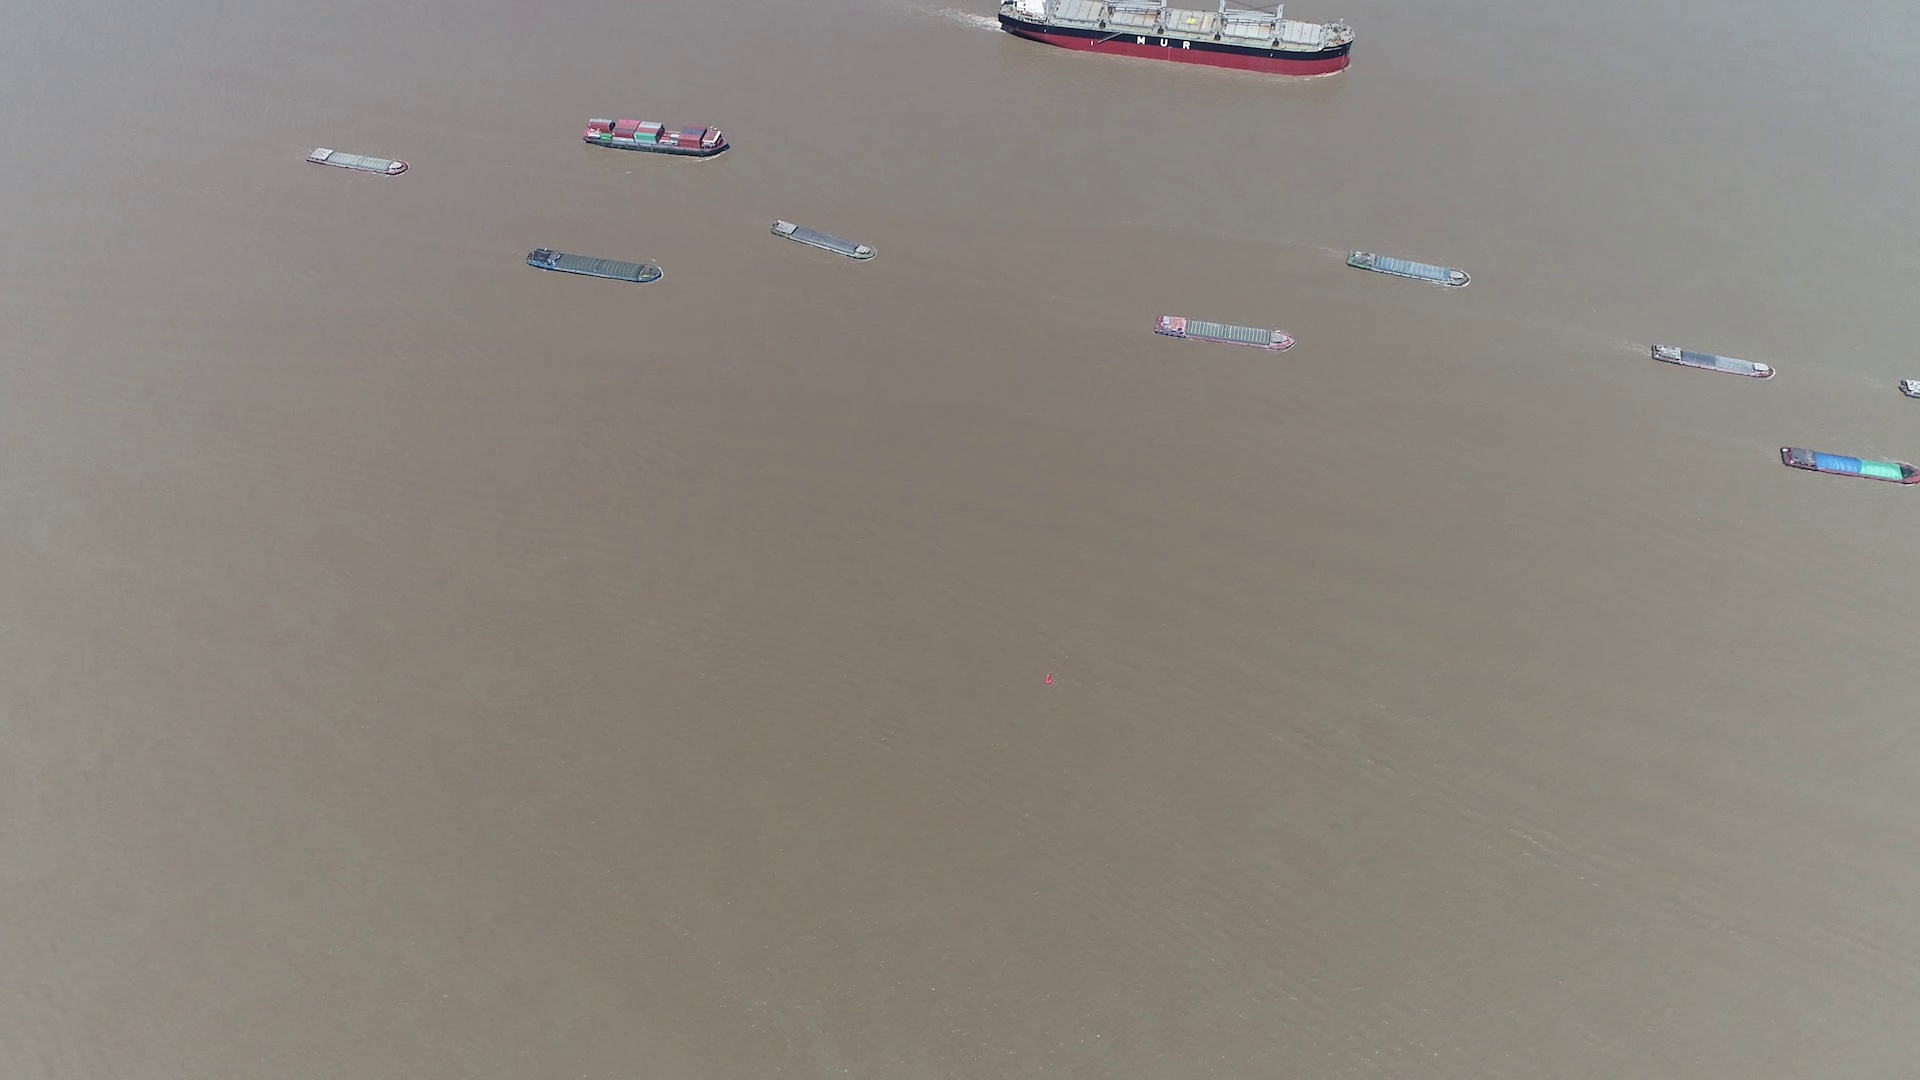ship: (998, 0, 1356, 74), (582, 117, 729, 157), (1780, 444, 1920, 485), (1156, 313, 1294, 349), (1344, 248, 1472, 287), (526, 247, 661, 284), (771, 218, 877, 261), (1648, 343, 1776, 378), (303, 144, 407, 175)
